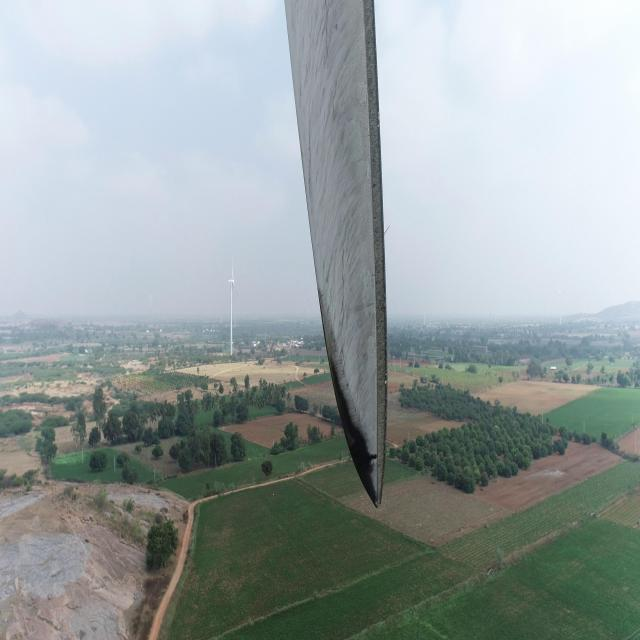Dirt: (287, 0, 393, 502)
Oil LEAKAGE: (317, 290, 381, 504)
Pin Hole: (370, 452, 380, 466)
